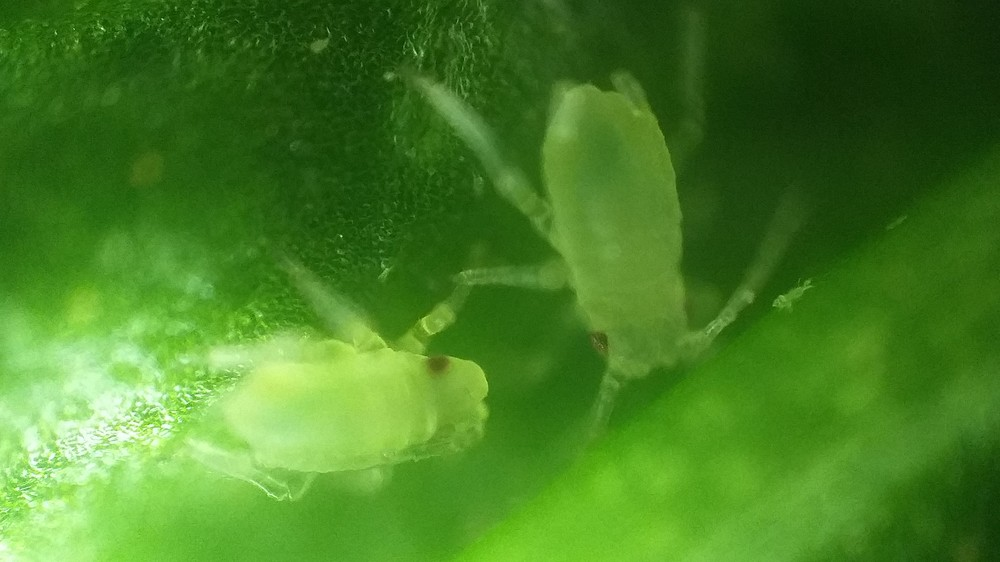Pulgon: (399, 55, 849, 460), (158, 241, 564, 534)
